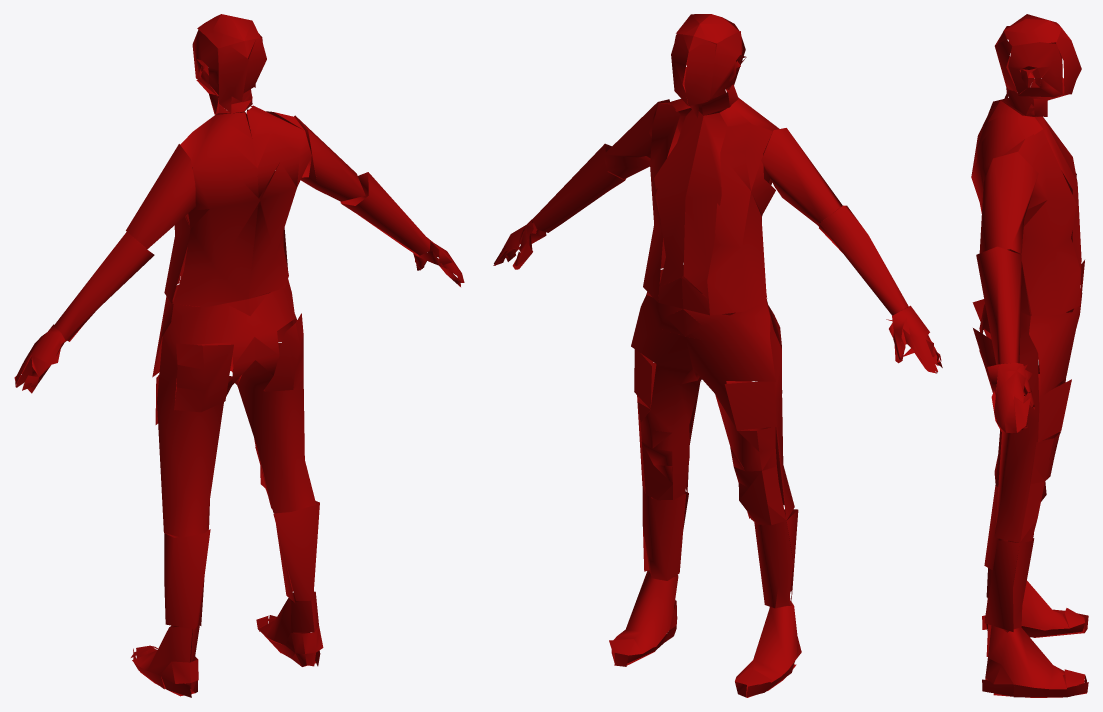
Rendered from demo_character_optimised.obj.
3 renders of one model, left to right at view 1: azimuth 30°, elevation 25°; view 2: azimuth 150°, elevation 25°; view 3: azimuth 270°, elevation 25°, orthographic.
Parts seen in each view (by area): view 1: entry_5378_pkOBJ; view 2: entry_5378_pkOBJ; view 3: entry_5378_pkOBJ.
Boxes of the visible parts, <box> form: entry_5378_pkOBJ: <box>14,14,464,697</box>; entry_5378_pkOBJ: <box>493,14,942,697</box>; entry_5378_pkOBJ: <box>971,14,1088,697</box>.
Size of the model in its own units: 20.03 by 27.87 by 4.6.
